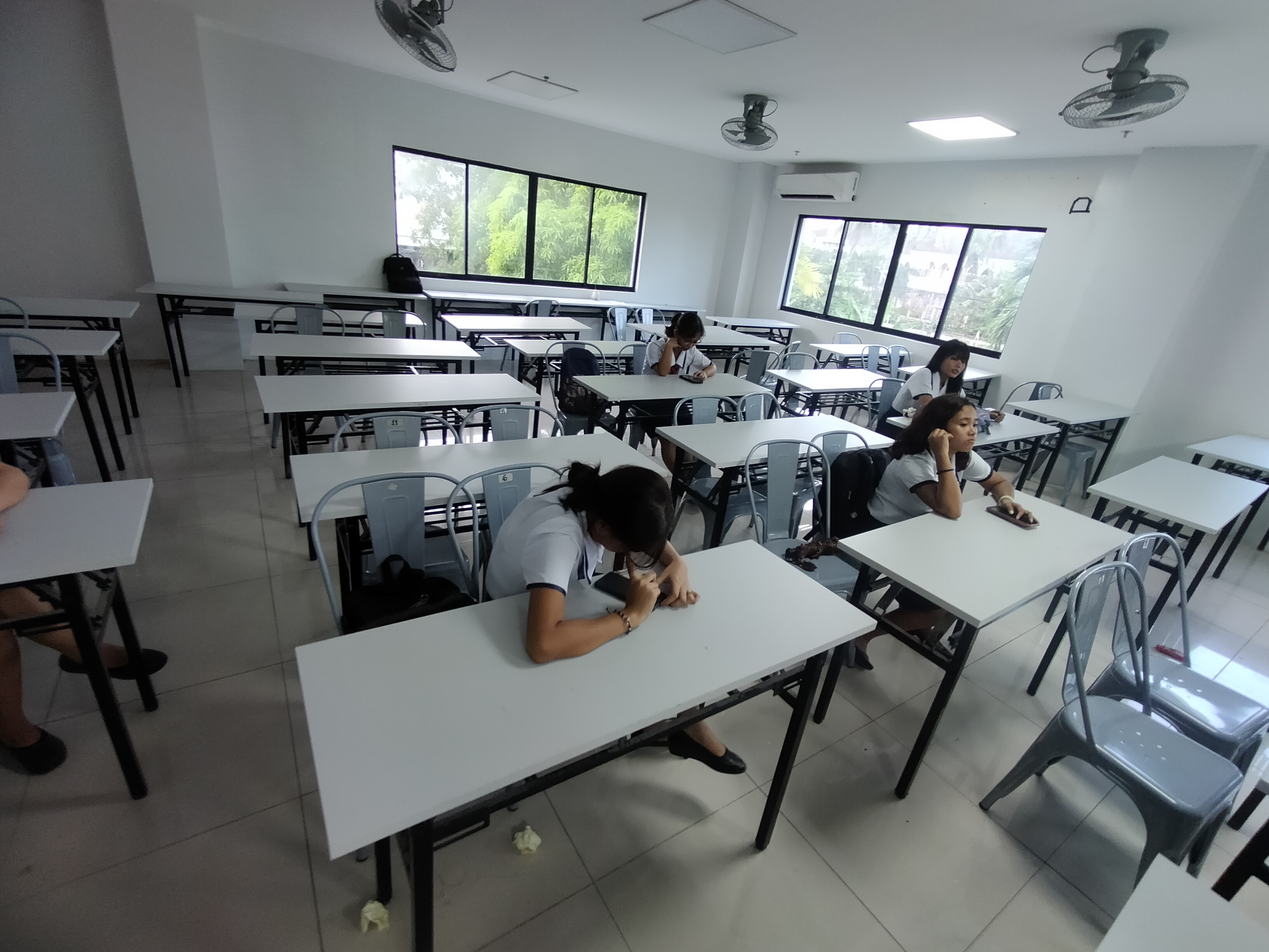with-student: (296, 464, 879, 906), (831, 389, 1149, 683), (567, 309, 774, 433), (877, 339, 1061, 464)
